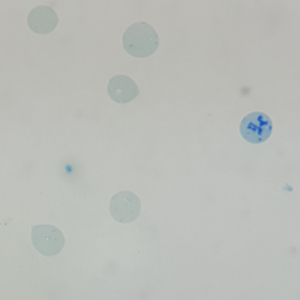aggregate reticulocyte: (238, 110, 274, 145)
erythrocyte: (29, 222, 68, 258), (108, 189, 144, 224), (106, 73, 141, 105), (25, 5, 61, 36)
punctate reticulocyte: (121, 20, 161, 59)
